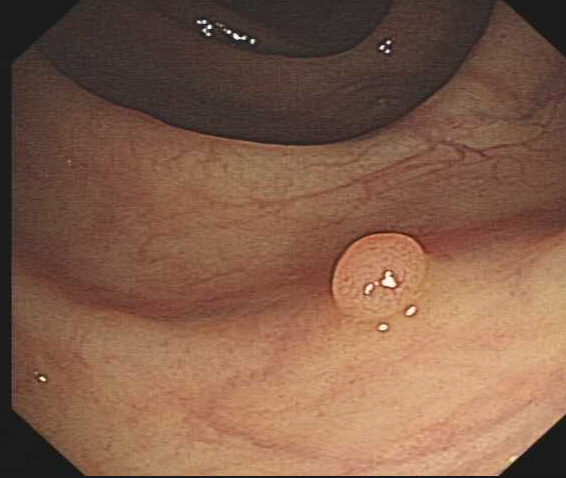adenoma: (326, 229, 429, 321)
